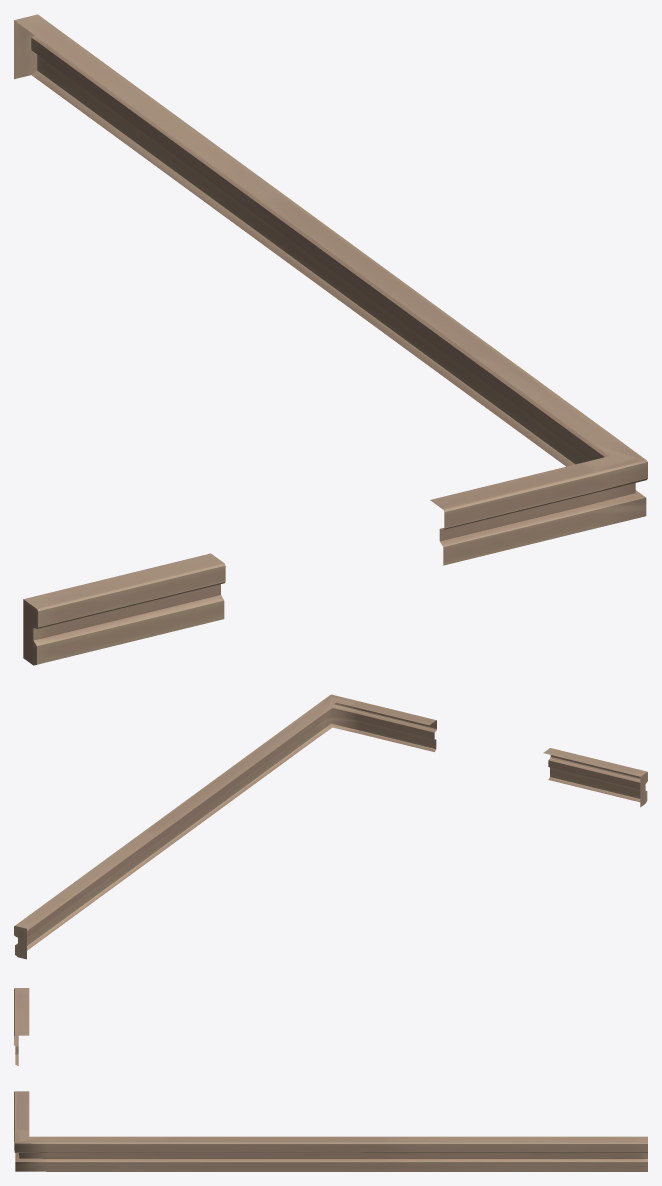
The model's file is wallPanel_Merged.fbx.
3 renders of one model, top to bottom at view 1: azimuth 30°, elevation 25°; view 2: azimuth 150°, elevation 25°; view 3: azimuth 270°, elevation 25°, orthographic. The views are drawn at different scales.
Visible parts, largest first — view 1: wallPanel (3)-Merged (1); view 2: wallPanel (3)-Merged (1); view 3: wallPanel (3)-Merged (1).
Part boxes in pixels (x1,y1,x2,y2): wallPanel (3)-Merged (1): [14, 14, 647, 665]; wallPanel (3)-Merged (1): [14, 694, 647, 959]; wallPanel (3)-Merged (1): [14, 988, 647, 1171].
Bounding box in the file's own units: 1956 × 181 × 3381.
